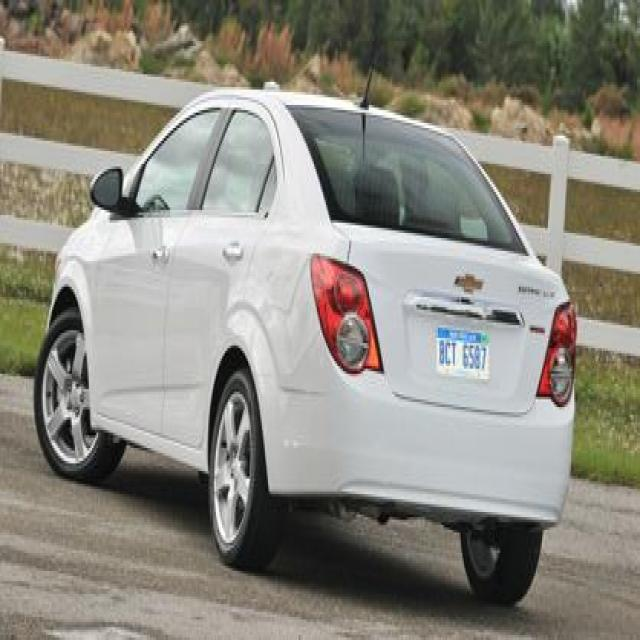Car: (40, 100, 628, 550)
